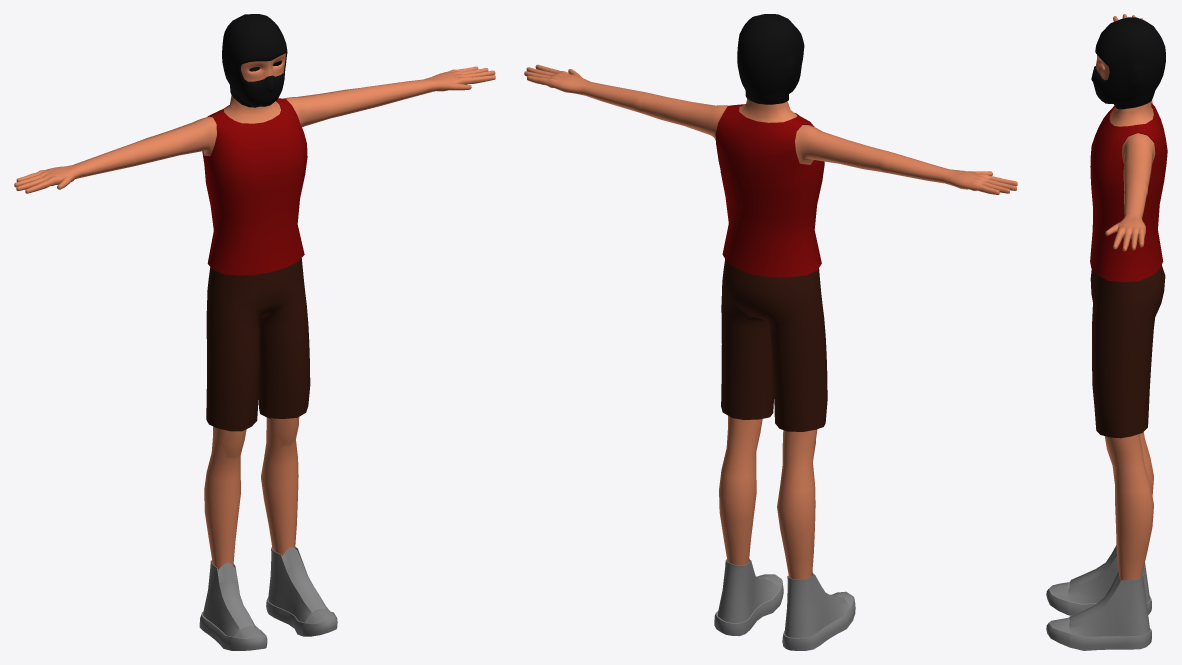
File: Personaje-Principal.fbx
The picture shows the model from 3 angles, left to right: view 1: azimuth 30°, elevation 25°; view 2: azimuth 150°, elevation 25°; view 3: azimuth 270°, elevation 25°; orthographic projection. The views are drawn at different scales.
Parts seen in each view (by area): view 1: Personaje_aumentado; view 2: Personaje_aumentado; view 3: Personaje_aumentado.
Part boxes in pixels (x1,y1,x2,y2): Personaje_aumentado: (14, 14, 495, 650); Personaje_aumentado: (524, 14, 1017, 650); Personaje_aumentado: (1046, 14, 1167, 650).
Bounding box in the file's own units: 1.45 × 1.75 × 0.317.
